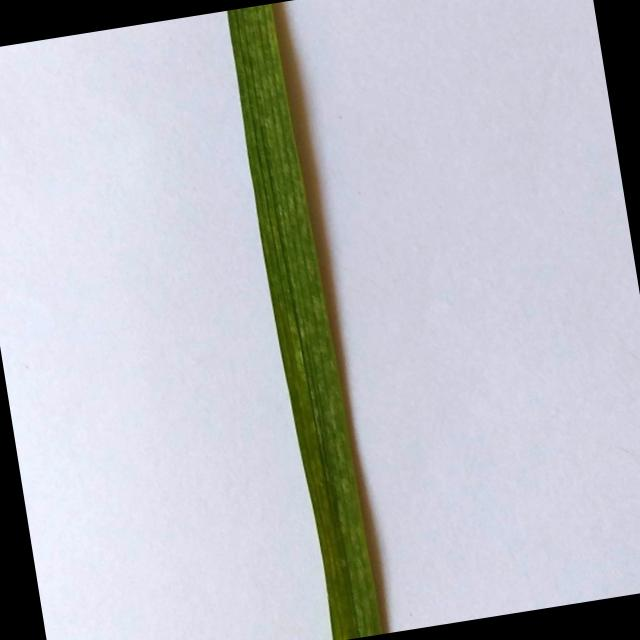Rice_Healthy: (227, 4, 386, 640)
